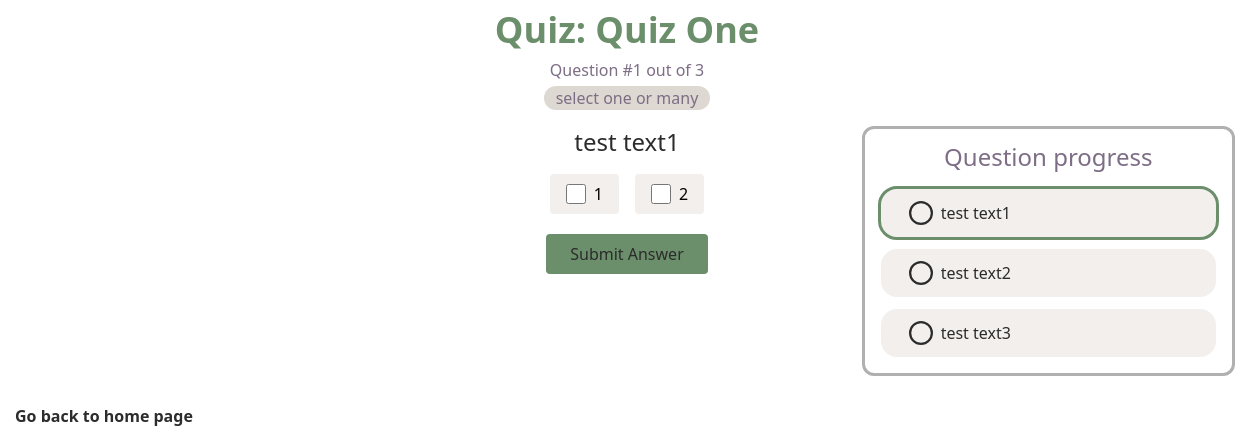
Test: validation error when submit and not selected answer
Click the button "Submit Answer" at (627, 254), box [546,234,708,274]
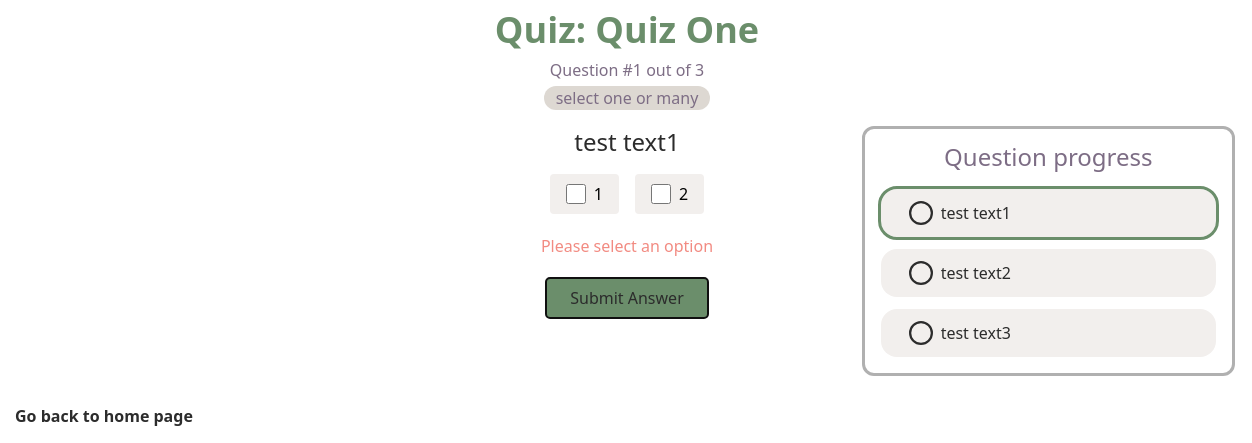
Now the text "Please select an option" is shown, box [541,234,713,258]
